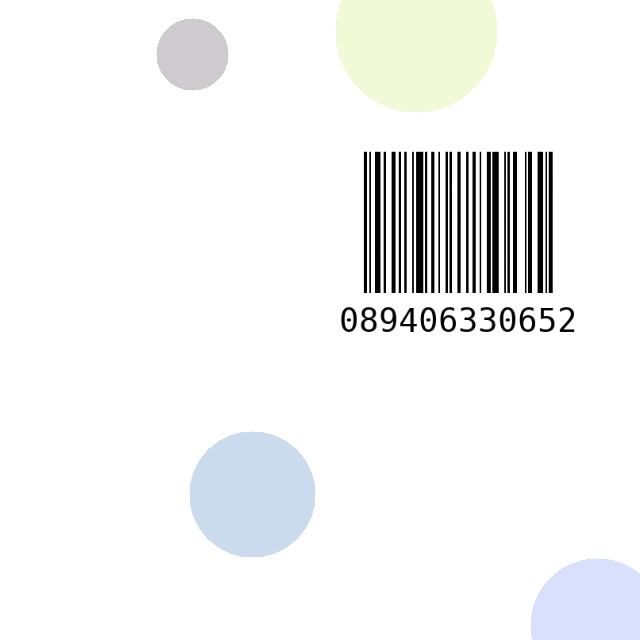barcode: (340, 143, 576, 365)
